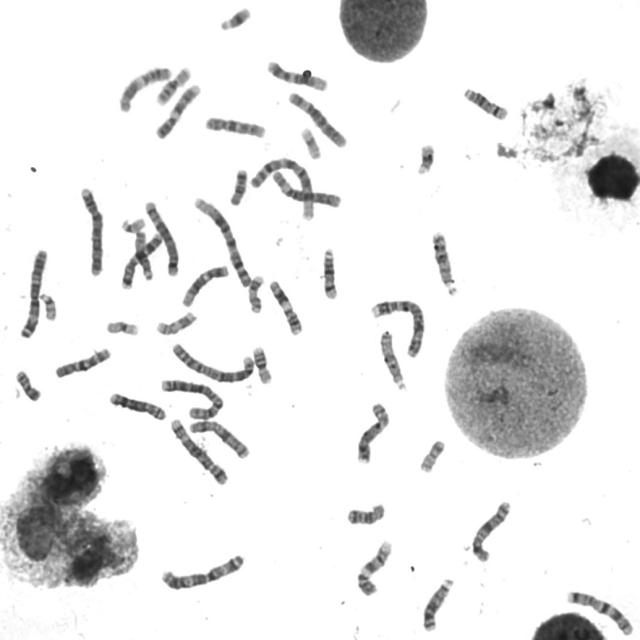A1: (190, 193, 254, 289), (248, 152, 318, 222)
A2: (169, 338, 257, 384), (158, 374, 225, 421)
A3: (158, 549, 247, 592), (17, 245, 50, 340)
B4: (367, 294, 428, 360), (77, 183, 107, 278)
B5: (167, 415, 230, 487), (142, 196, 182, 278)
C10: (53, 343, 114, 380), (202, 112, 268, 140)
C11: (116, 62, 173, 113), (266, 276, 305, 336)
C12: (179, 260, 231, 309), (264, 56, 330, 93)
C6: (286, 87, 349, 149), (269, 166, 344, 210)
C7: (563, 586, 636, 638), (118, 229, 165, 290)
C8: (354, 399, 392, 465), (106, 388, 168, 422)
C9: (152, 80, 203, 140), (354, 536, 395, 598)
D13: (429, 227, 461, 297), (420, 574, 456, 634)
D14: (460, 83, 510, 121), (320, 244, 340, 302)
D15: (378, 327, 410, 392), (127, 225, 156, 285)
E16: (154, 62, 194, 106), (250, 342, 275, 385)
E17: (153, 306, 199, 336), (245, 271, 266, 314)
E18: (344, 499, 388, 527), (226, 164, 250, 207)
F19: (298, 123, 324, 160), (103, 316, 141, 336)
F20: (417, 435, 448, 474), (12, 366, 44, 403)
G21: (216, 3, 254, 32), (413, 139, 438, 176)
G22: (37, 288, 59, 322), (117, 214, 148, 234)
X: (186, 416, 252, 461), (469, 497, 513, 564)
